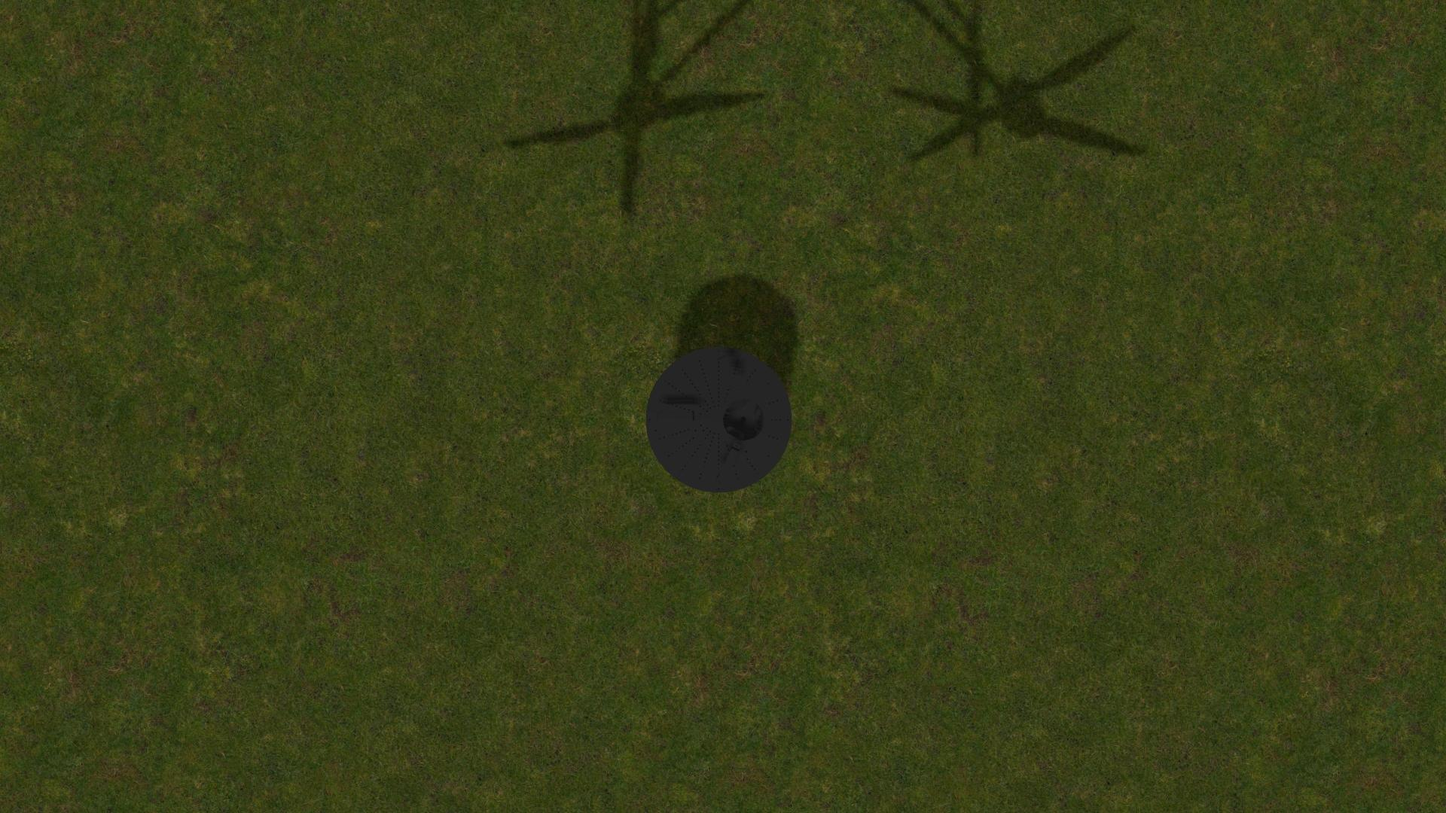alca: (714, 442, 741, 487), (716, 351, 741, 396), (653, 411, 699, 422)
armadilha: (646, 346, 792, 493)
